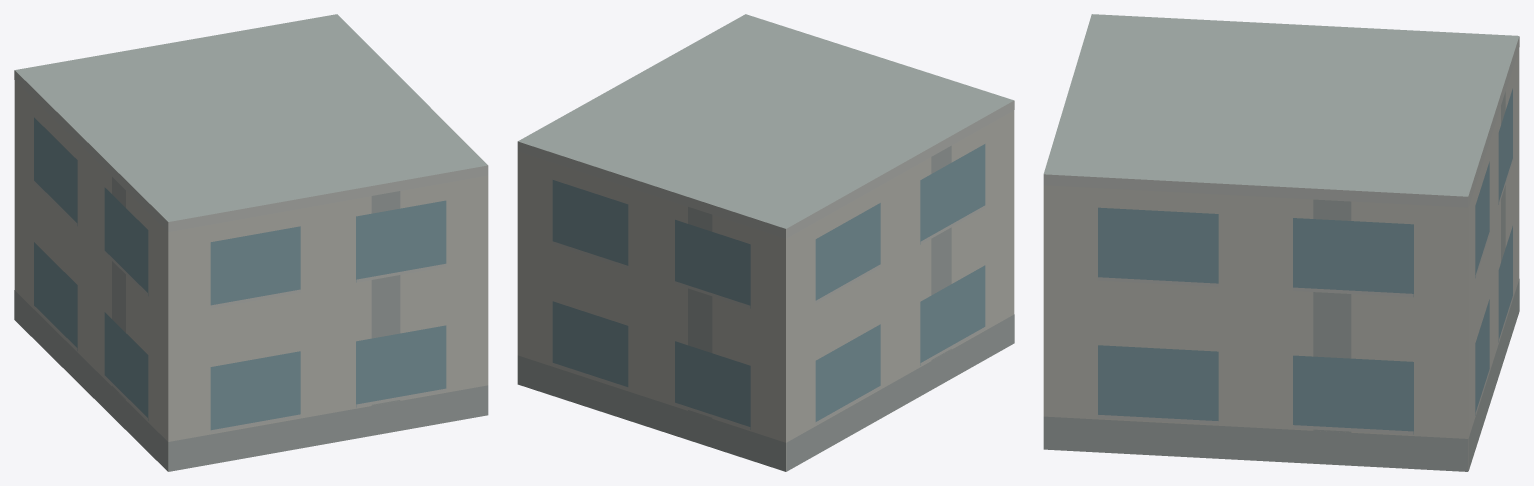
File: survey-upis-32963195.glb
3 renders of one model, left to right at view 1: azimuth 30°, elevation 25°; view 2: azimuth 150°, elevation 25°; view 3: azimuth 270°, elevation 25°, orthographic. The views are drawn at different scales.
Parts seen in each view (by area): view 1: survey-upis-32963195.tmp; view 2: survey-upis-32963195.tmp; view 3: survey-upis-32963195.tmp.
Boxes of the visible parts, bbox=[...] form: survey-upis-32963195.tmp: bbox=[14, 14, 488, 471]; survey-upis-32963195.tmp: bbox=[517, 14, 1014, 471]; survey-upis-32963195.tmp: bbox=[1043, 14, 1519, 471].
Bounding box in the file's own units: 8.7 × 6.1 × 9.58.
